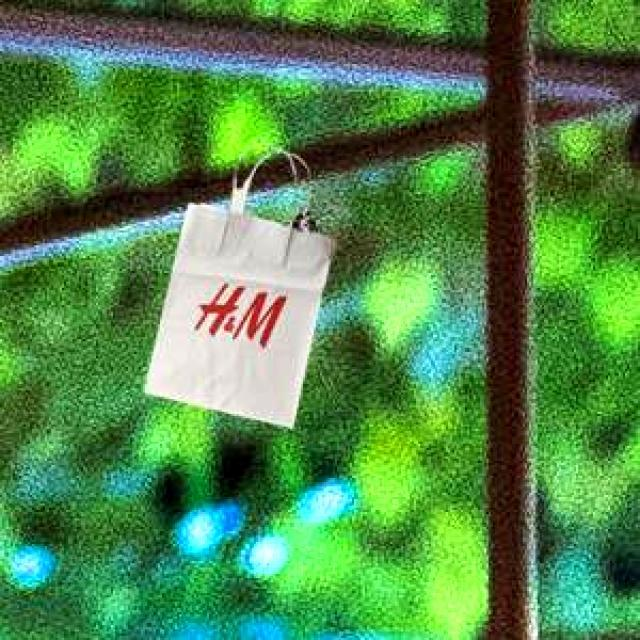Paper_Bag: (142, 172, 334, 426)
